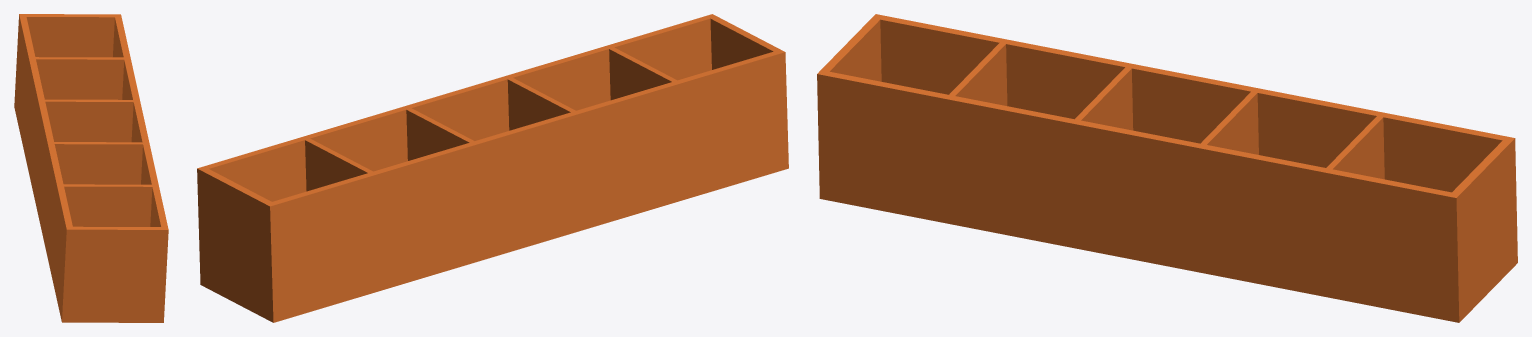
The model's file is TablDot.fbx.
The picture shows the model from 3 angles, left to right: view 1: azimuth 30°, elevation 25°; view 2: azimuth 150°, elevation 25°; view 3: azimuth 270°, elevation 25°; orthographic projection. The views are drawn at different scales.
Parts seen in each view (by area): view 1: Tabldot; view 2: Tabldot; view 3: Tabldot.
Boxes of the visible parts, <box> form: Tabldot: <box>14,14,168,322</box>; Tabldot: <box>197,14,788,322</box>; Tabldot: <box>817,14,1517,322</box>.
Size of the model in its own units: 9112 by 3139 by 14941.
